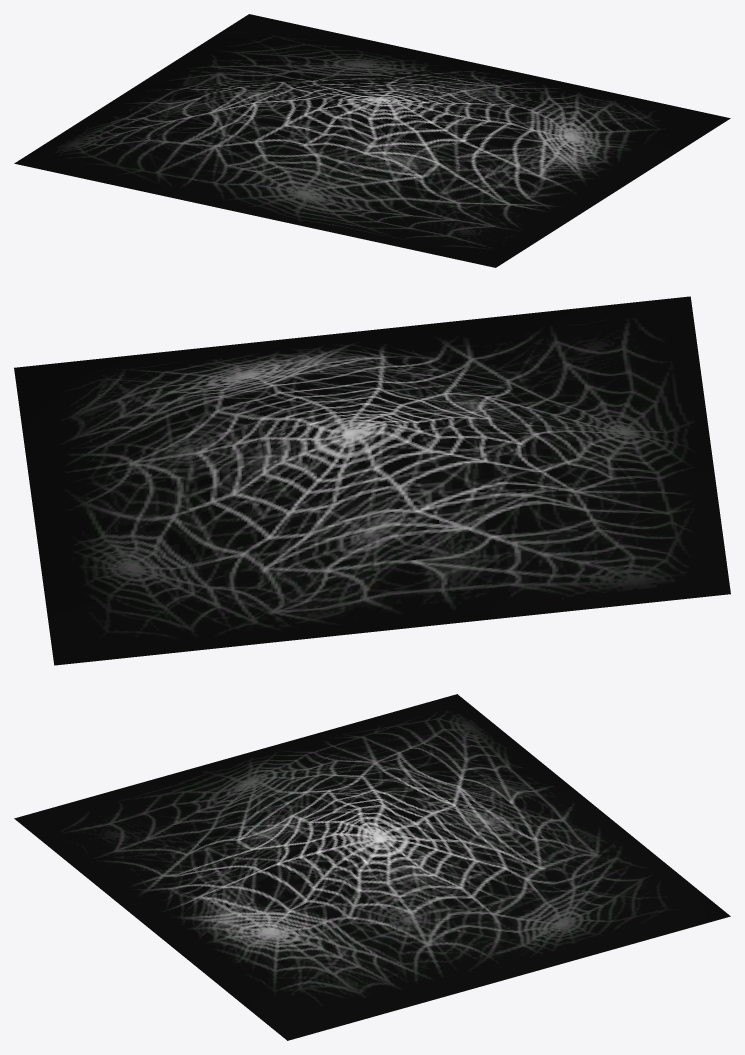
The model's file is MIRKWOOD_PLANE42.fbx.
The picture shows the model from 3 angles, top to bottom: view 1: azimuth 30°, elevation 25°; view 2: azimuth 150°, elevation 25°; view 3: azimuth 270°, elevation 25°; orthographic projection. The views are drawn at different scales.
Visible parts, largest first — view 1: MIRKWOOD_PLANE42; view 2: MIRKWOOD_PLANE42; view 3: MIRKWOOD_PLANE42.
Boxes of the visible parts, x1,y1,x2,y2 form: MIRKWOOD_PLANE42: (14, 14, 730, 267); MIRKWOOD_PLANE42: (14, 296, 730, 665); MIRKWOOD_PLANE42: (14, 694, 730, 1040).
Bounding box in the file's own units: 222081 × 21803 × 222554.
1 material, 1 textured.
